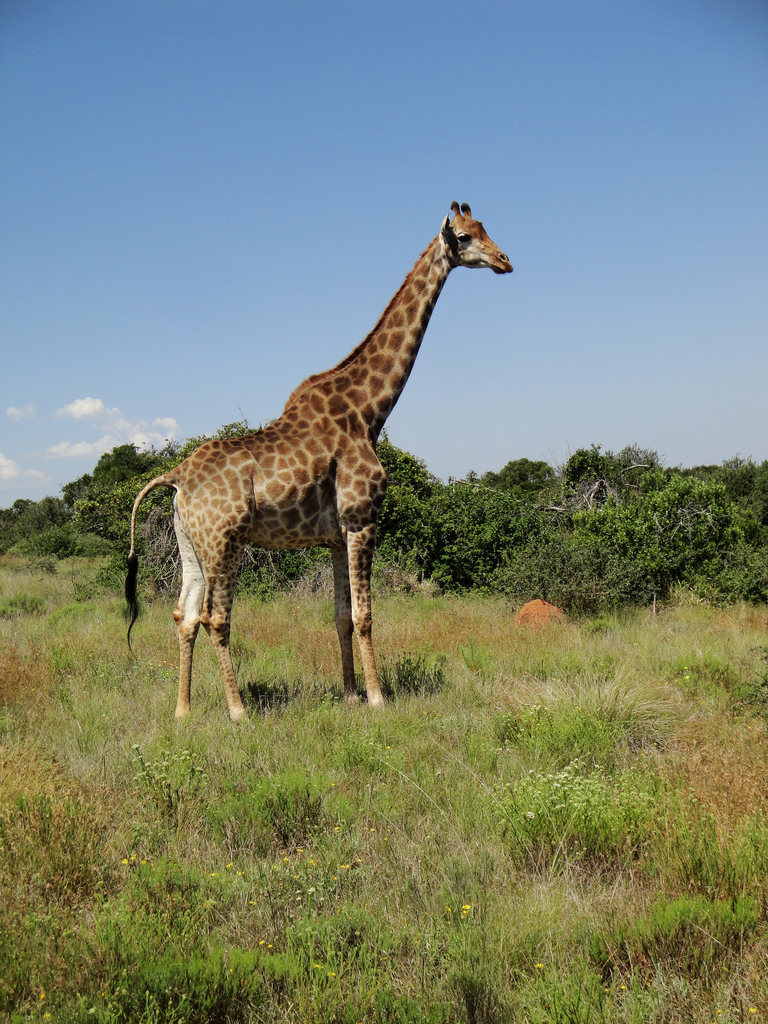giraffe: (116, 183, 533, 741)
